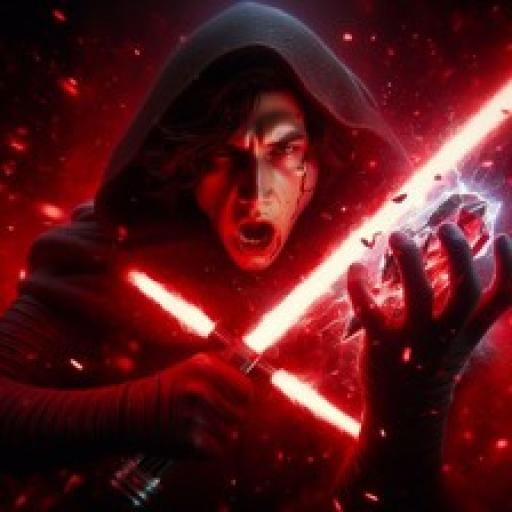human: (0, 2, 512, 512)
sith saber: (97, 82, 510, 511)
